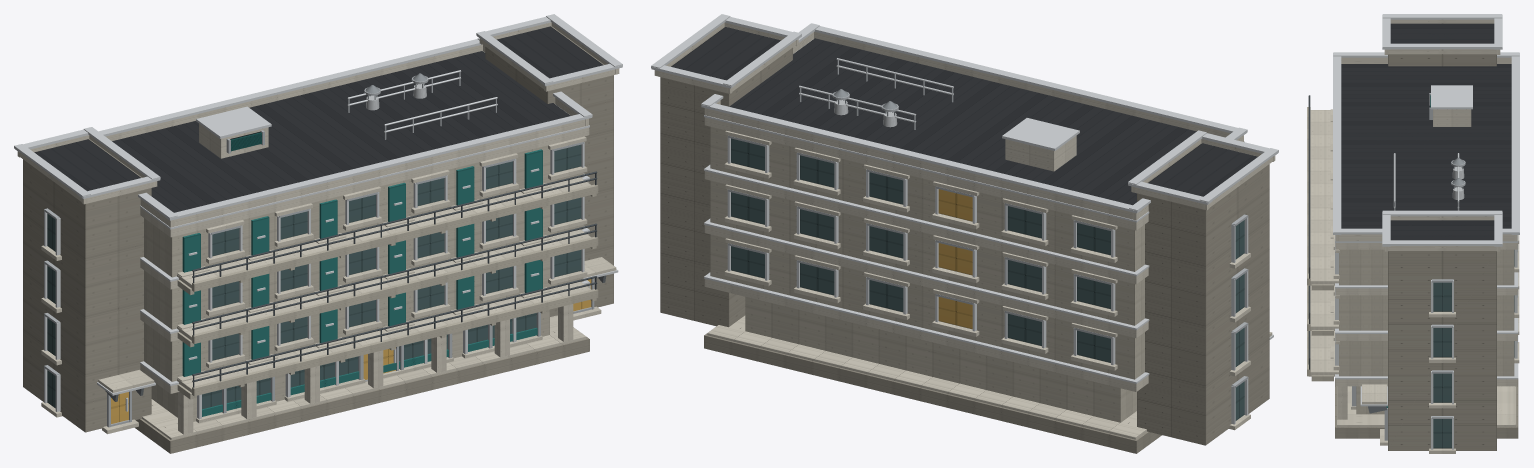
The model's file is fun-9-built.glb.
The picture shows the model from 3 angles, left to right: view 1: azimuth 30°, elevation 25°; view 2: azimuth 150°, elevation 25°; view 3: azimuth 270°, elevation 25°; orthographic projection. The views are drawn at different scales.
Bounding box in the file's own units: 34.12 × 15.25 × 13.36.
Materials: 24 (17 with a texture image).
